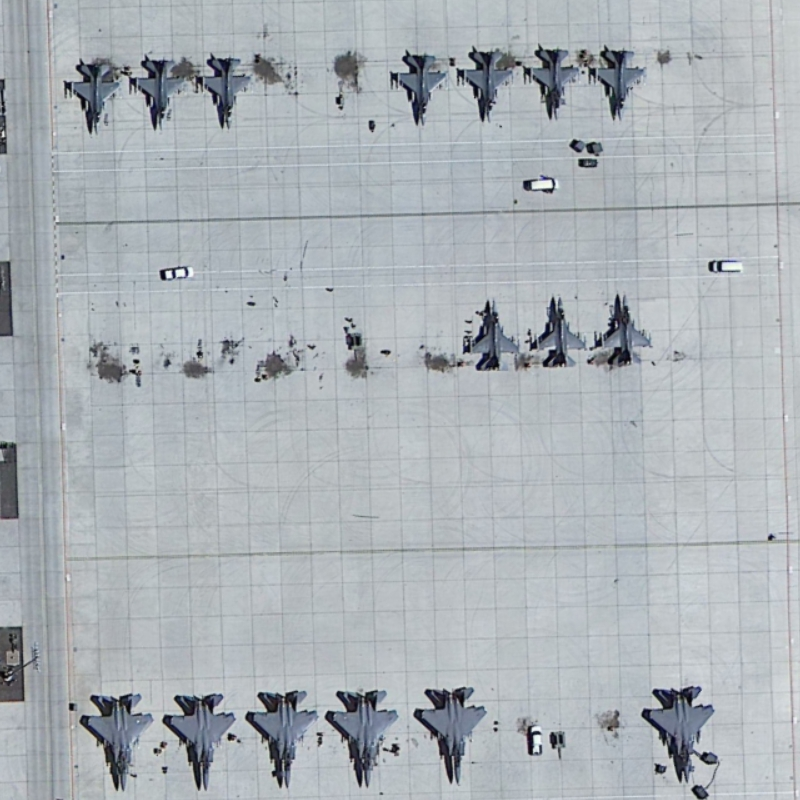A13: (241, 676, 326, 793), (75, 682, 159, 794), (159, 678, 243, 789), (636, 676, 717, 785), (410, 678, 489, 789), (326, 680, 404, 789)
A5: (527, 285, 593, 374), (196, 50, 263, 135), (587, 37, 653, 122), (465, 290, 527, 378), (388, 46, 451, 131), (594, 288, 659, 370), (64, 58, 127, 141), (456, 41, 518, 124), (522, 39, 584, 119), (127, 55, 190, 133)
